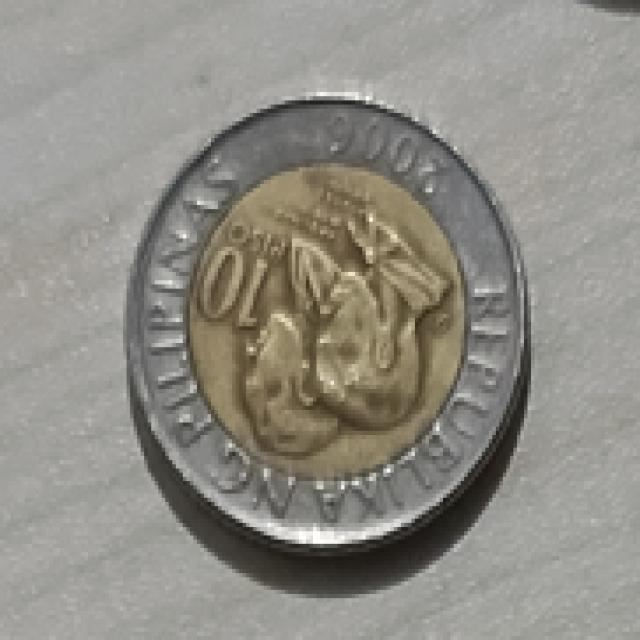10_peso: (127, 100, 520, 548)
